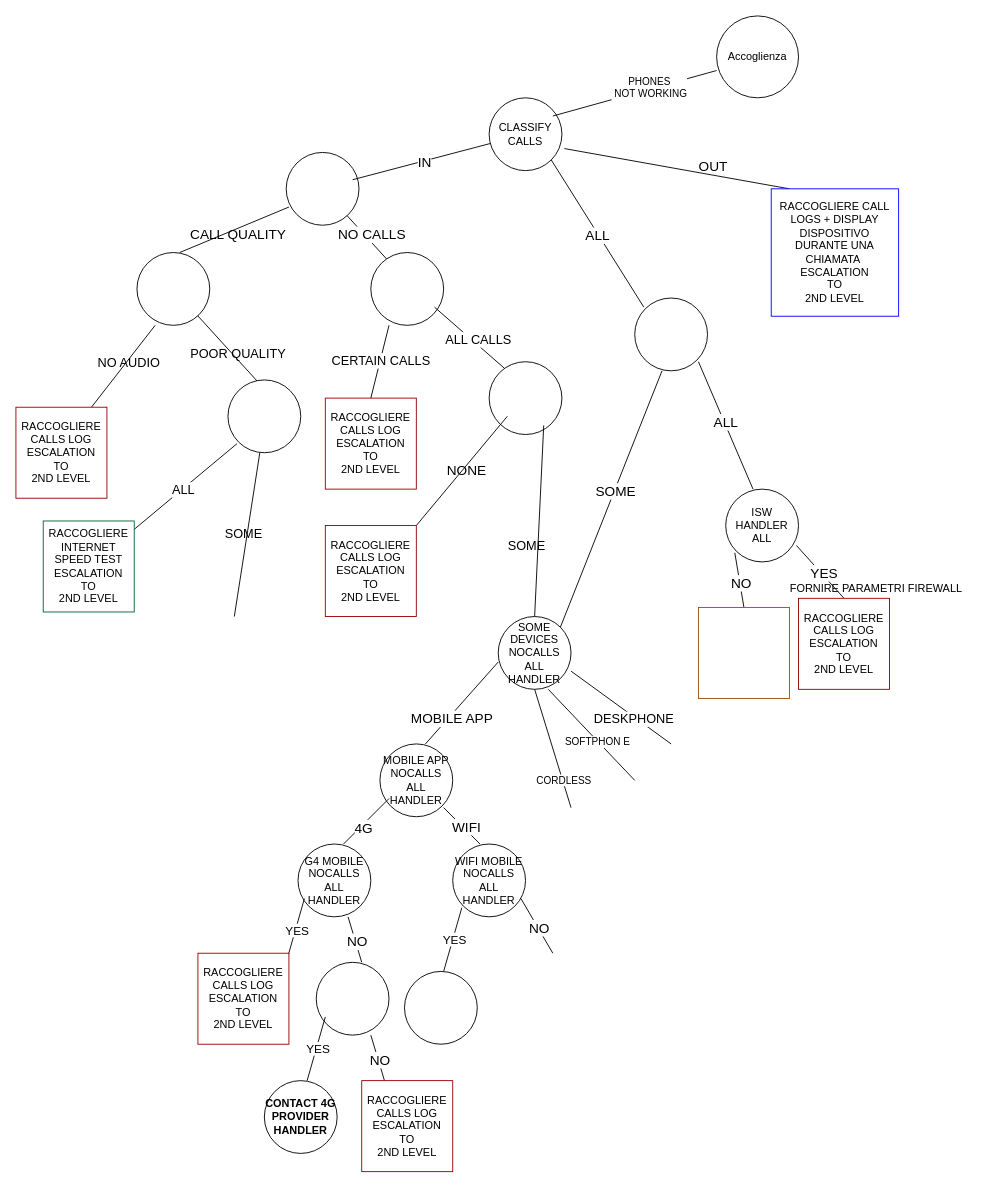
Image size: 987x1188. Some labels were removed from this diagram. Each missing label, with the centre of its shape:
ALL CALLS INCOMING HANDLER: (525,398)
ALL HANDLER: (671,334)
INCOMING HANDLER: (322,188)
NO CALLS INCOMING HANDLER: (407,288)
POOR QUALITY HANDLER: (264,416)
QUALITY HANDLER: (173,288)
REPORT TO ISP: (743,652)
SWITCH ON WIFI HANDLER: (352,998)
